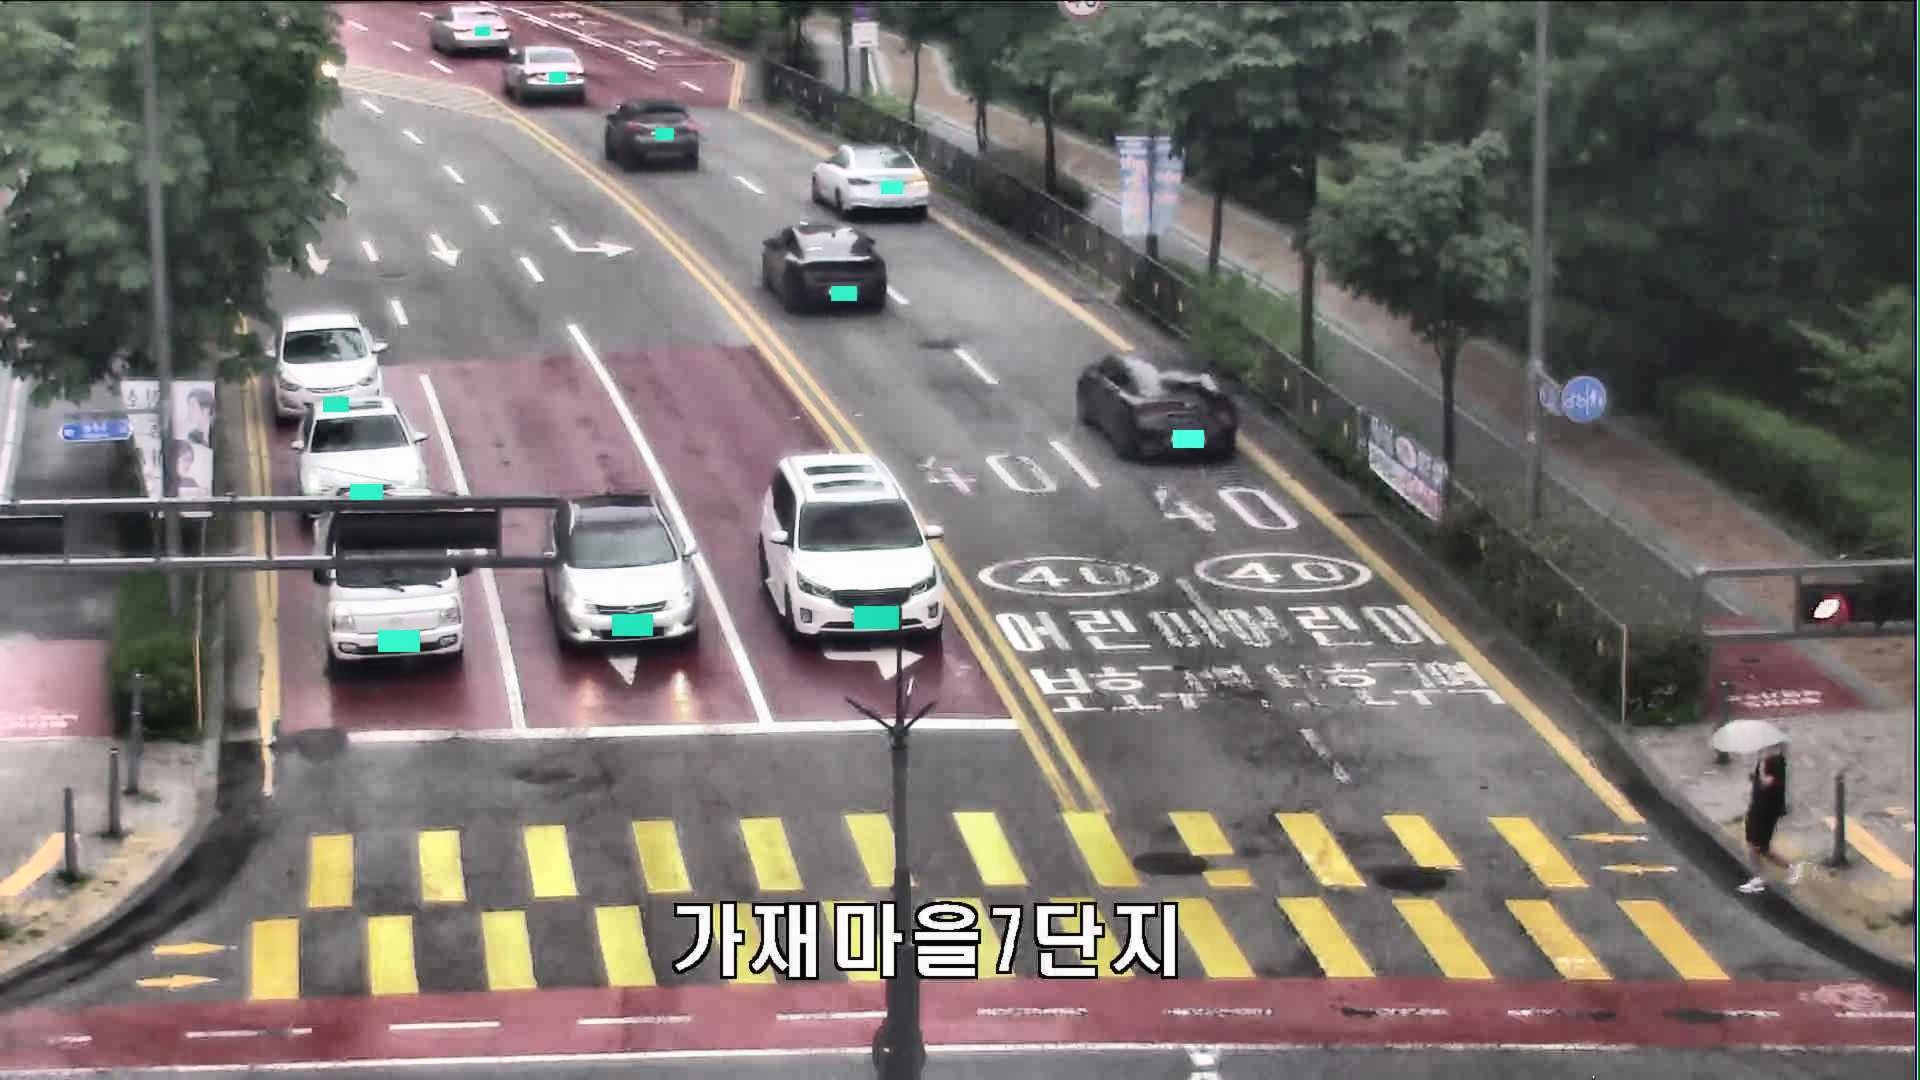um_sidewalk: (1712, 719, 1804, 894)
